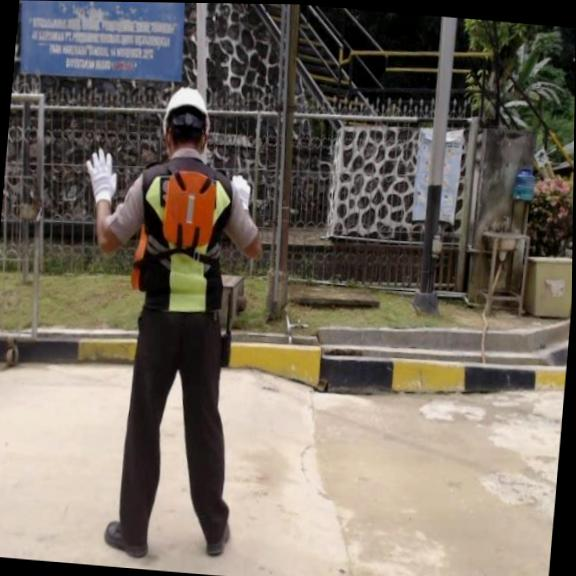safety_vest: (160, 166, 220, 252)
